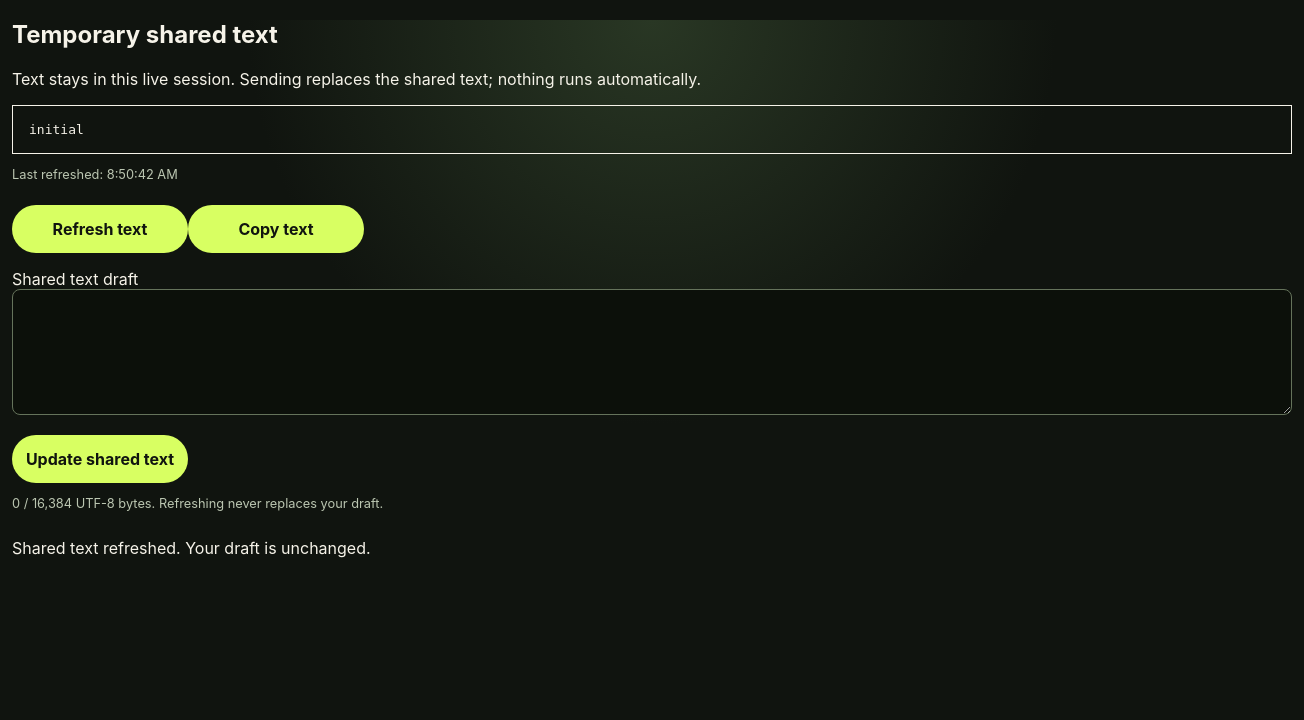
Test: preserves a newer shared-text draft while an earlier update is in flight
Check: the text "initial" is shown, box [12,105,1292,154]
Type "first update" into the text box labelled "Shared text draft" at (652, 352), box [12,289,1292,415]
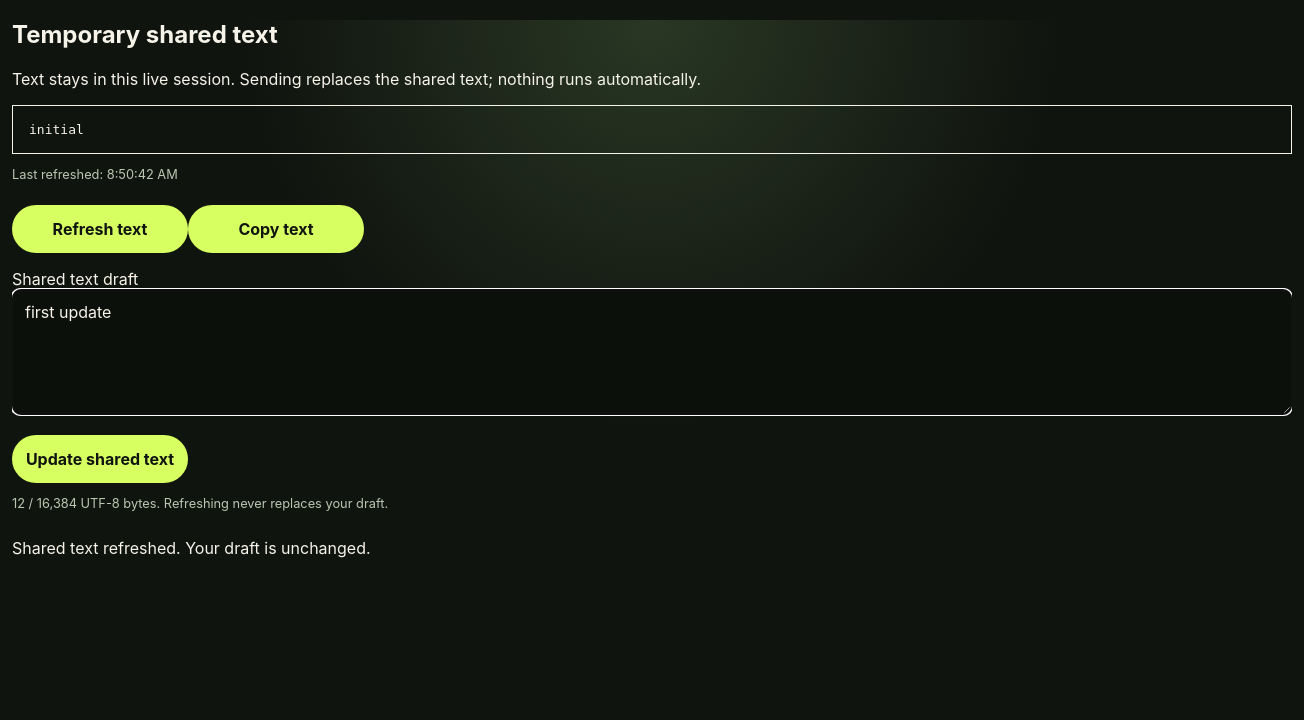
Click the button "Update shared text" at (100, 459), box [12,435,188,483]
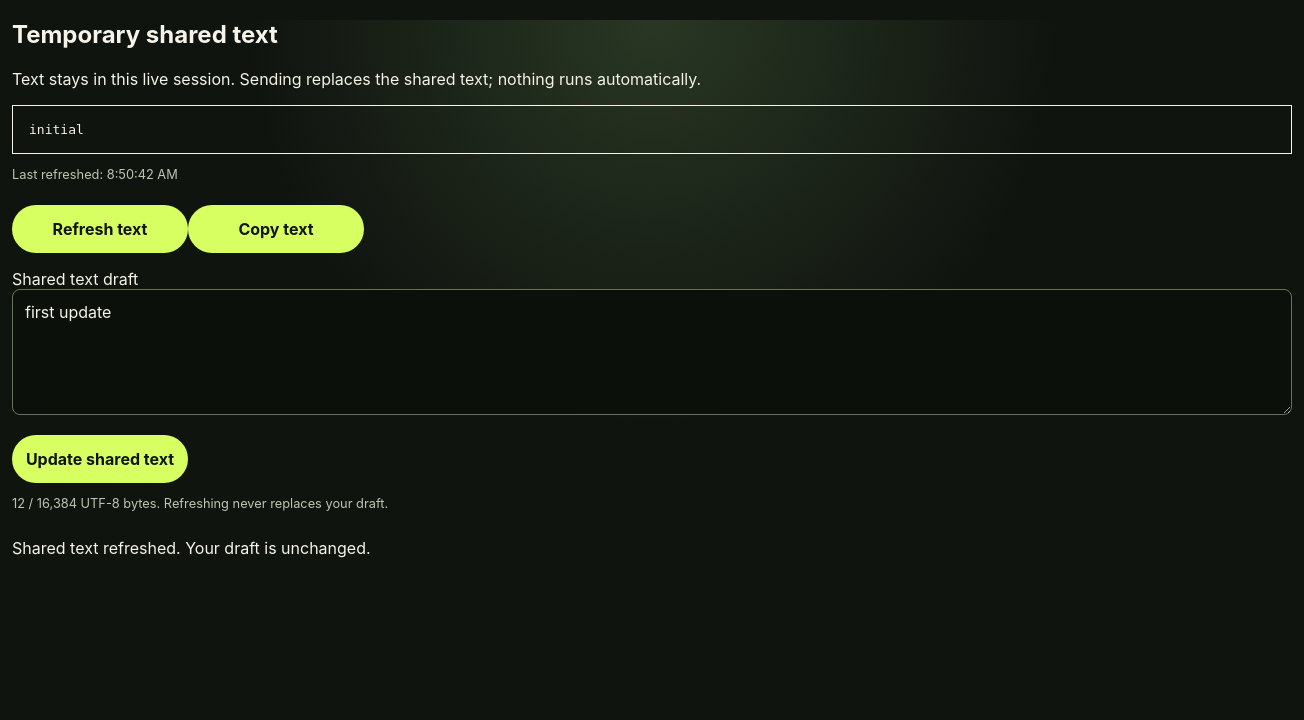
Replace the text in the text box labelled "Shared text draft" with "new unsent draft" at (652, 352), box [12,289,1292,415]
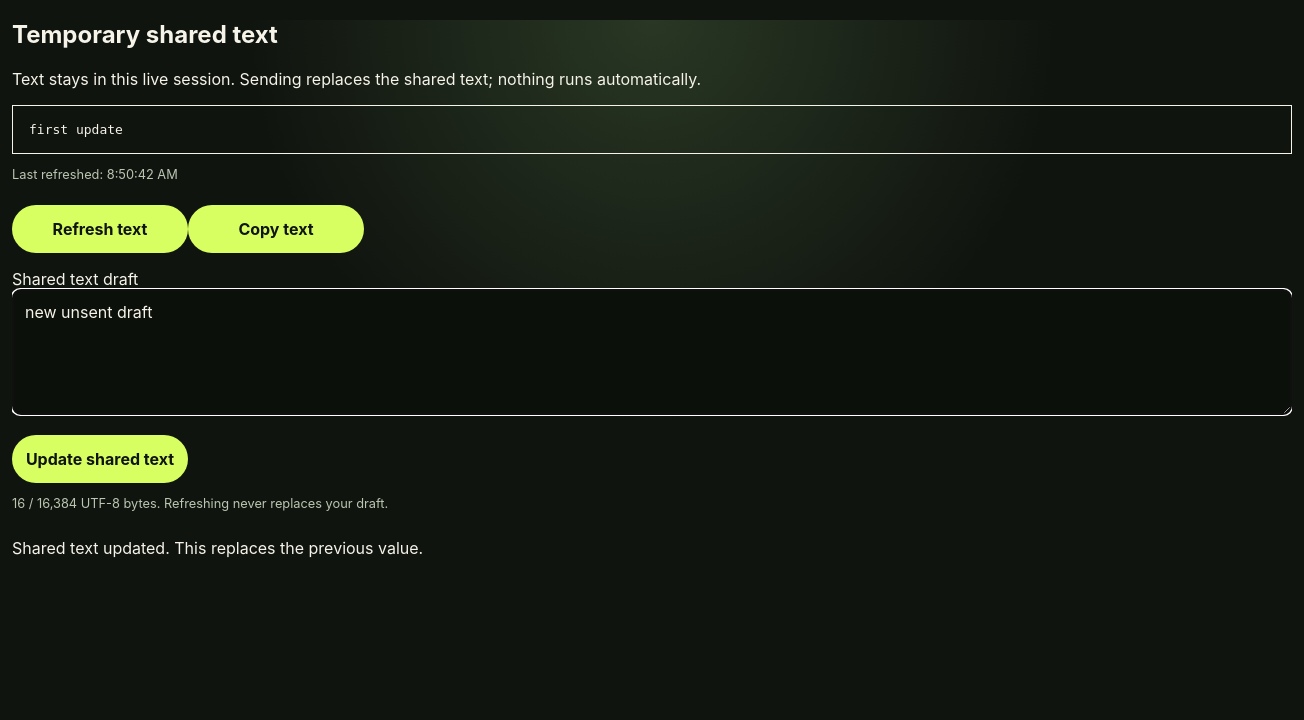
Check: the message shows "Shared text updated", box [12,538,423,558]
